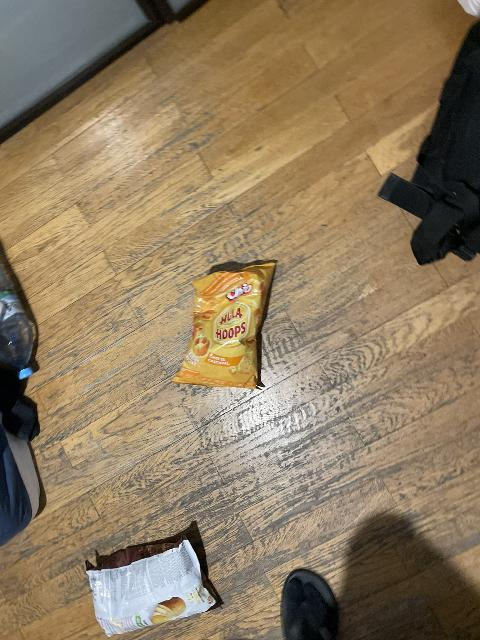Chio Hula Hoops Cheese 70g: (175, 260, 281, 388)
Lays Beef Grilled Ribs 125g: (85, 523, 224, 634)
